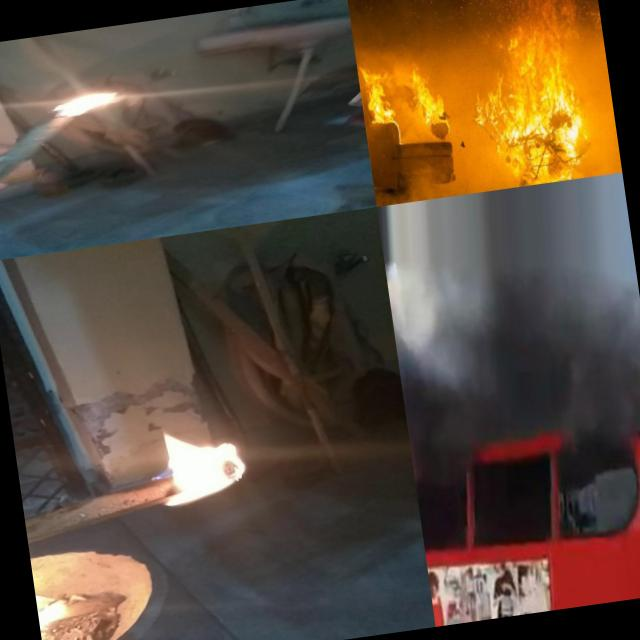fire: (474, 22, 591, 190), (134, 402, 267, 518), (34, 82, 138, 136), (406, 58, 447, 125), (364, 60, 398, 134), (35, 586, 75, 640)
smoke: (393, 291, 640, 522)
